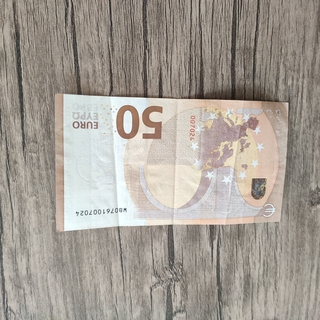50EUROBack: (53, 92, 289, 232)
